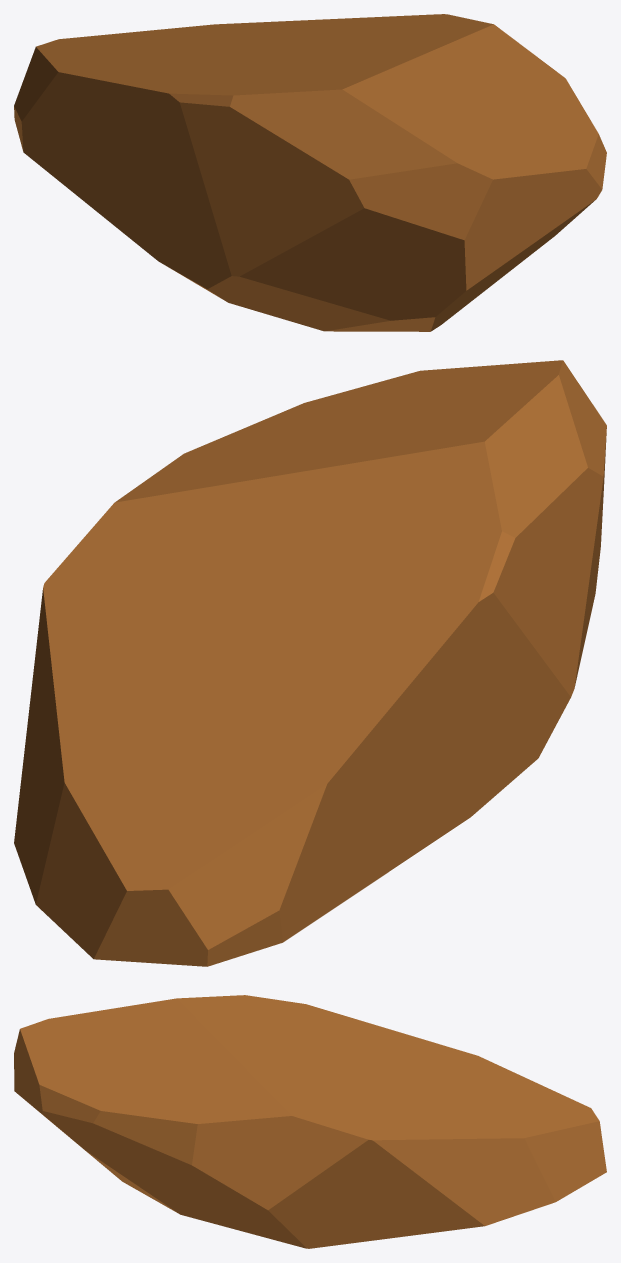
File: HardRock_53.fbx
3 renders of one model, top to bottom at view 1: azimuth 30°, elevation 25°; view 2: azimuth 150°, elevation 25°; view 3: azimuth 270°, elevation 25°, orthographic. The views are drawn at different scales.
Visible parts, largest first — view 1: HardRock_53; view 2: HardRock_53; view 3: HardRock_53.
Part boxes in pixels (bbox=[...]): HardRock_53: bbox=[14, 14, 606, 331]; HardRock_53: bbox=[14, 360, 606, 966]; HardRock_53: bbox=[14, 995, 606, 1248].
Bounding box in the file's own units: 126 × 75.66 × 249.
